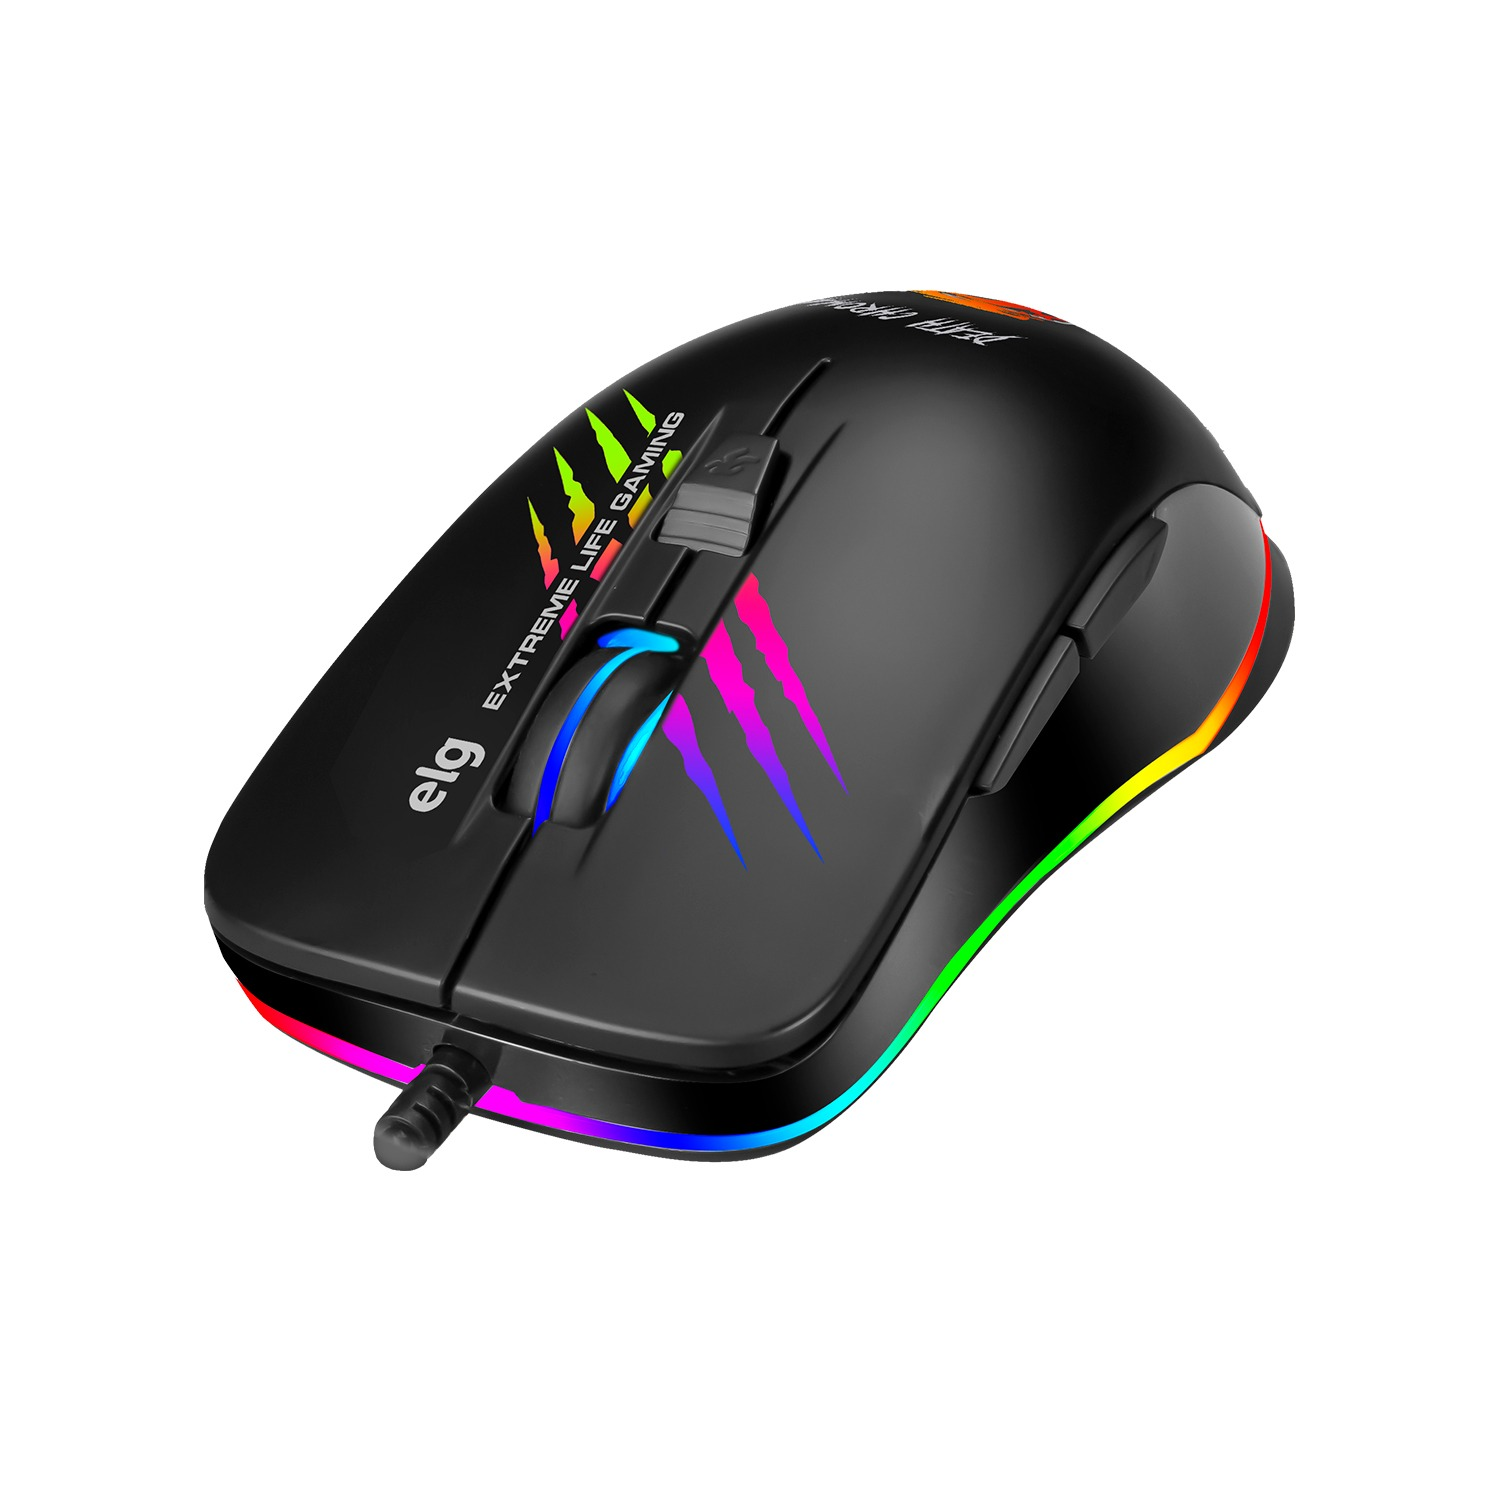mouse: (187, 120, 1308, 1196)
